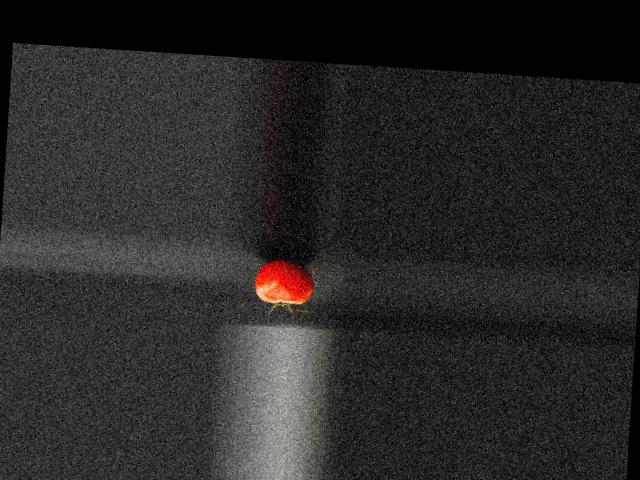tomato: (253, 257, 314, 305)
